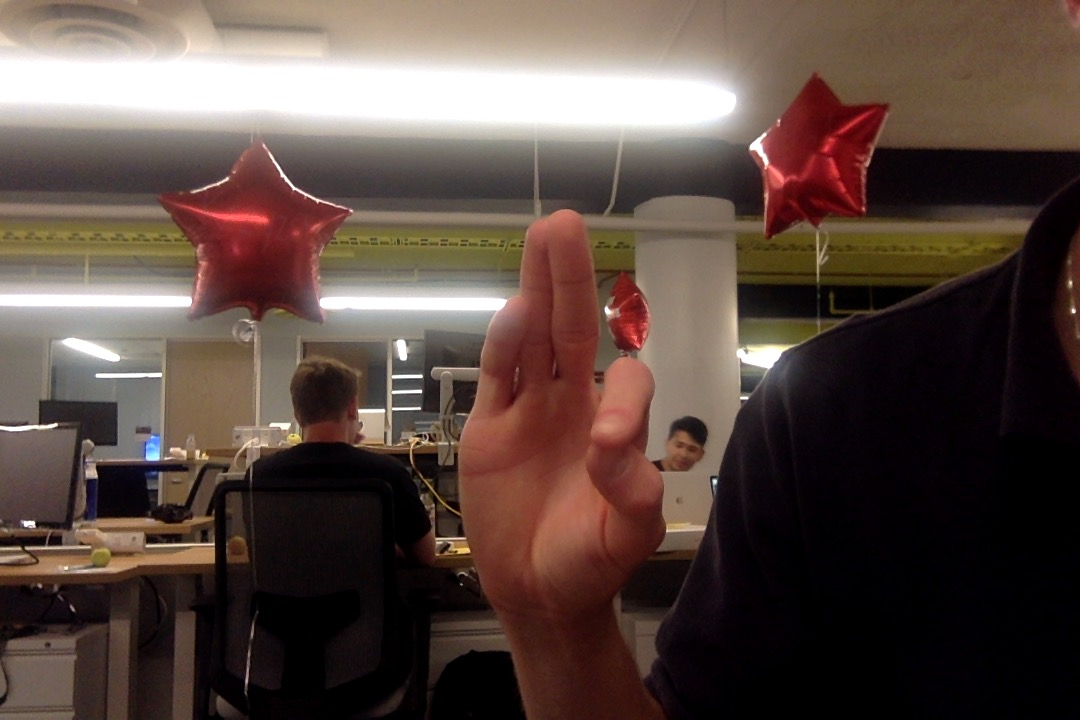f: (452, 205, 674, 620)
